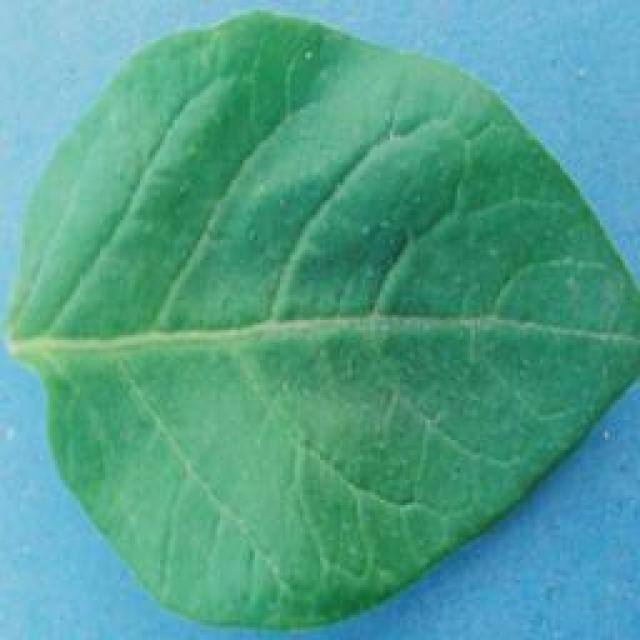Potato_Healthy: (2, 20, 632, 640)
